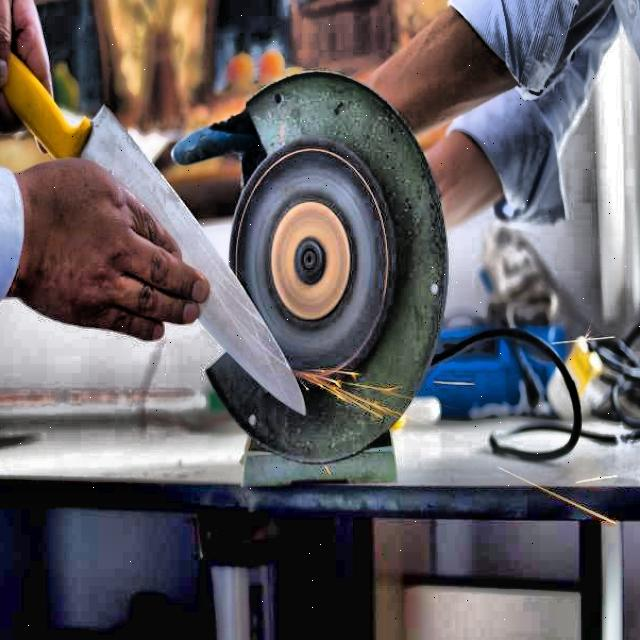knife: (0, 20, 307, 421)
